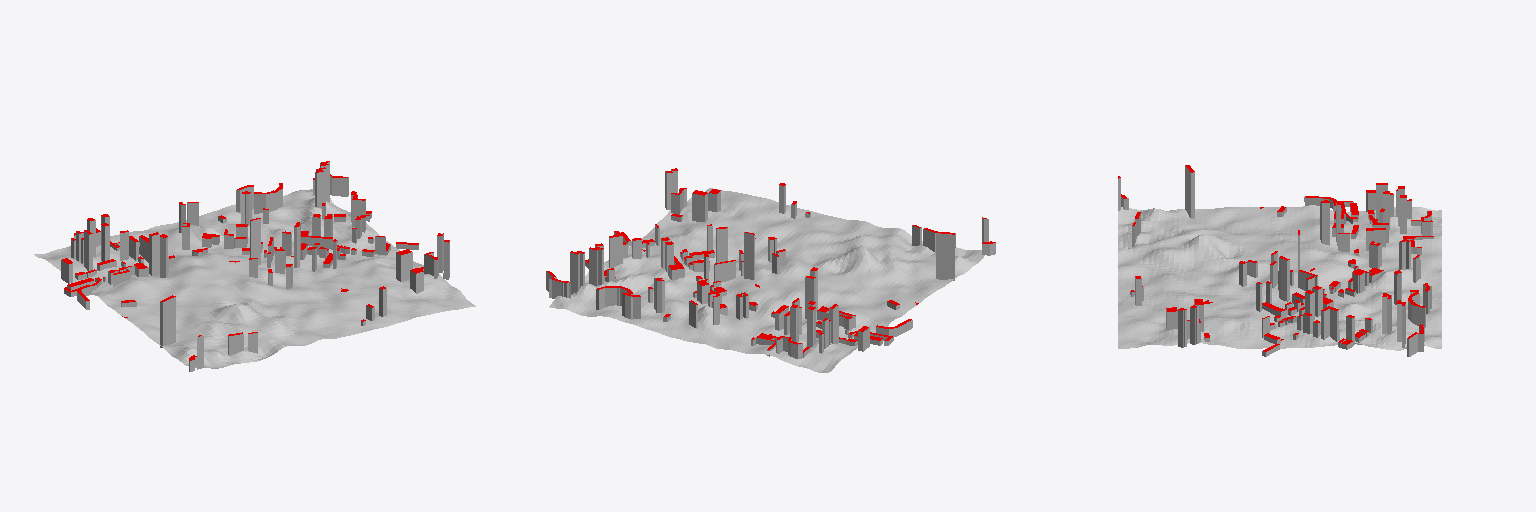
File: terrain-2.obj
3 renders of one model, left to right at view 1: azimuth 30°, elevation 25°; view 2: azimuth 150°, elevation 25°; view 3: azimuth 270°, elevation 25°, orthographic.
Visible parts, largest first — view 1: 25836.16263.15.obj; view 2: 25836.16263.15.obj; view 3: 25836.16263.15.obj.
Part boxes in pixels (x1,y1,x2,y2): 25836.16263.15.obj: (34, 161, 475, 371); 25836.16263.15.obj: (546, 168, 995, 372); 25836.16263.15.obj: (1118, 165, 1441, 356).
Bounding box in the file's own units: 2.24 × 0.3765 × 2.